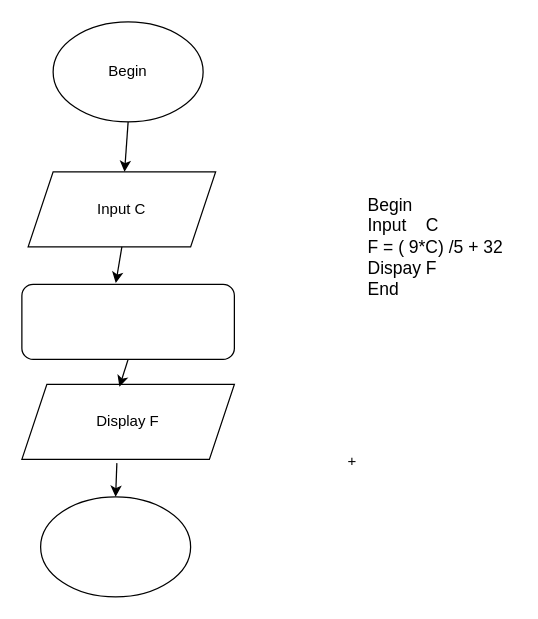
The diagram is 538 pixels wide and 619 high, and some of its shapes have lost their labels. Here are the shapes that lost their labels. From the top down, the box of each, then its label:
(21, 283, 234, 359): F = ( 9 * C ) / 5 + 32
(39, 496, 191, 597): End
